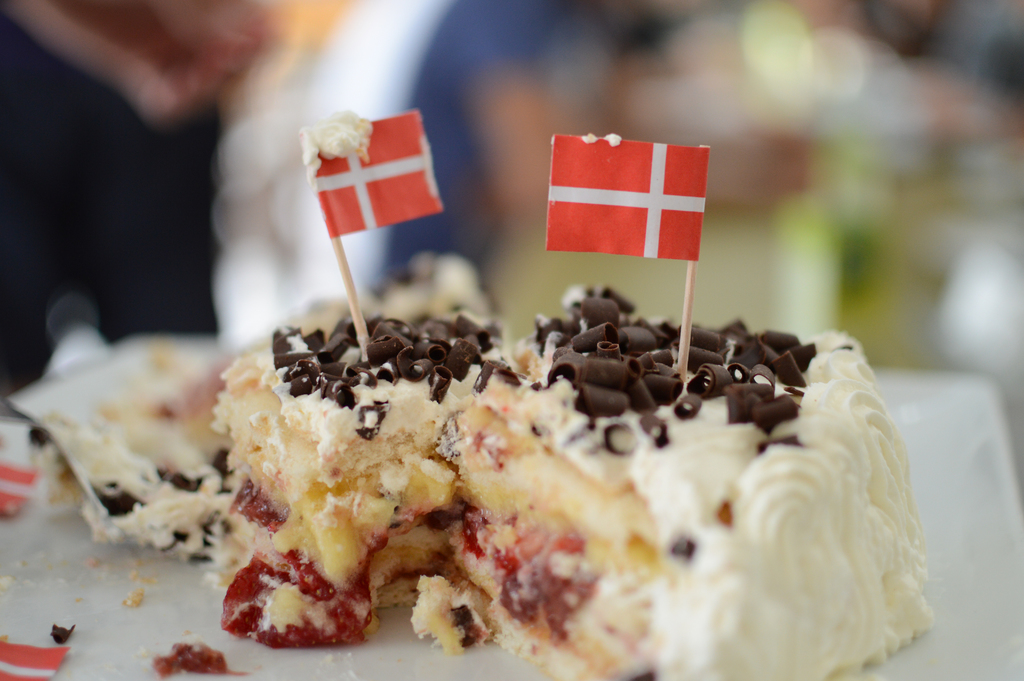cake: (456, 286, 932, 680), (204, 308, 509, 644)
